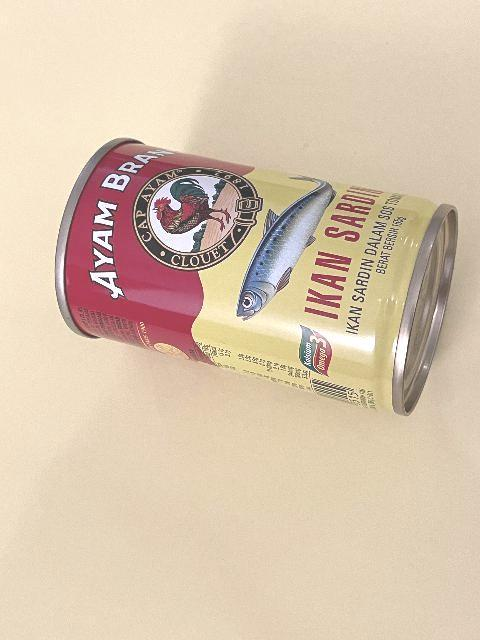foodcan: (53, 135, 461, 419)
